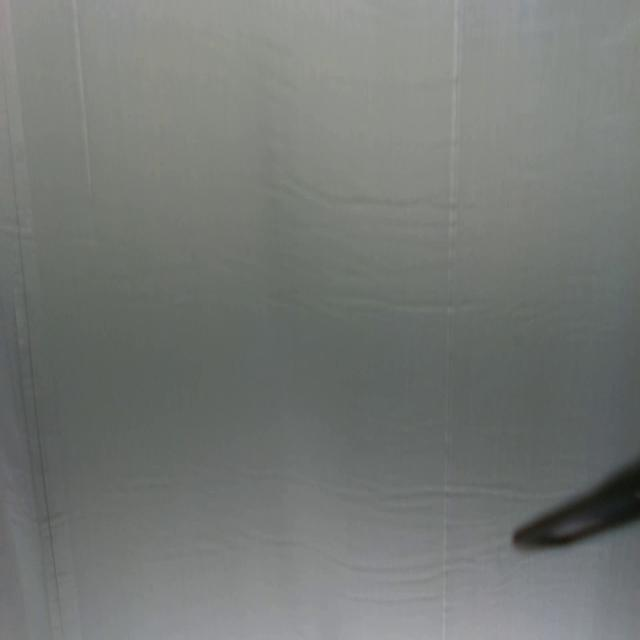crease: (0, 0, 70, 639), (440, 0, 465, 639), (69, 0, 94, 202)
